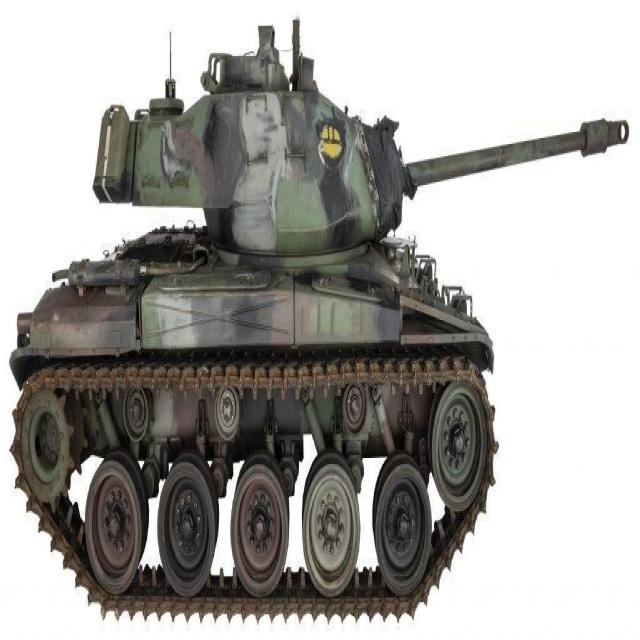Tanks: (17, 59, 629, 602)
